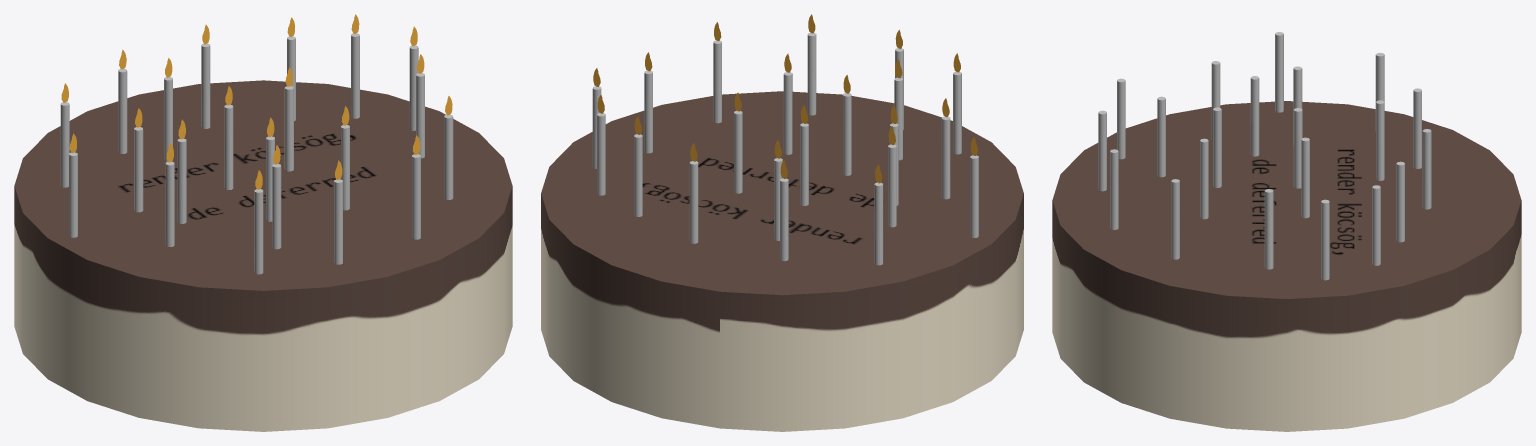
File: cake.dae
3 views of the same model, side by side, from view 1: azimuth 30°, elevation 25°; view 2: azimuth 150°, elevation 25°; view 3: azimuth 270°, elevation 25° (orthographic). The views are drawn at different scales.
Parts seen in each view (by area): view 1: Cylinder001; view 2: Cylinder001; view 3: Cylinder001.
Part boxes in pixels (x1,y1,x2,y2): Cylinder001: [14, 14, 512, 431]; Cylinder001: [541, 14, 1023, 431]; Cylinder001: [1052, 32, 1521, 431].
Size of the model in its own units: 32 by 32 by 17.29.
